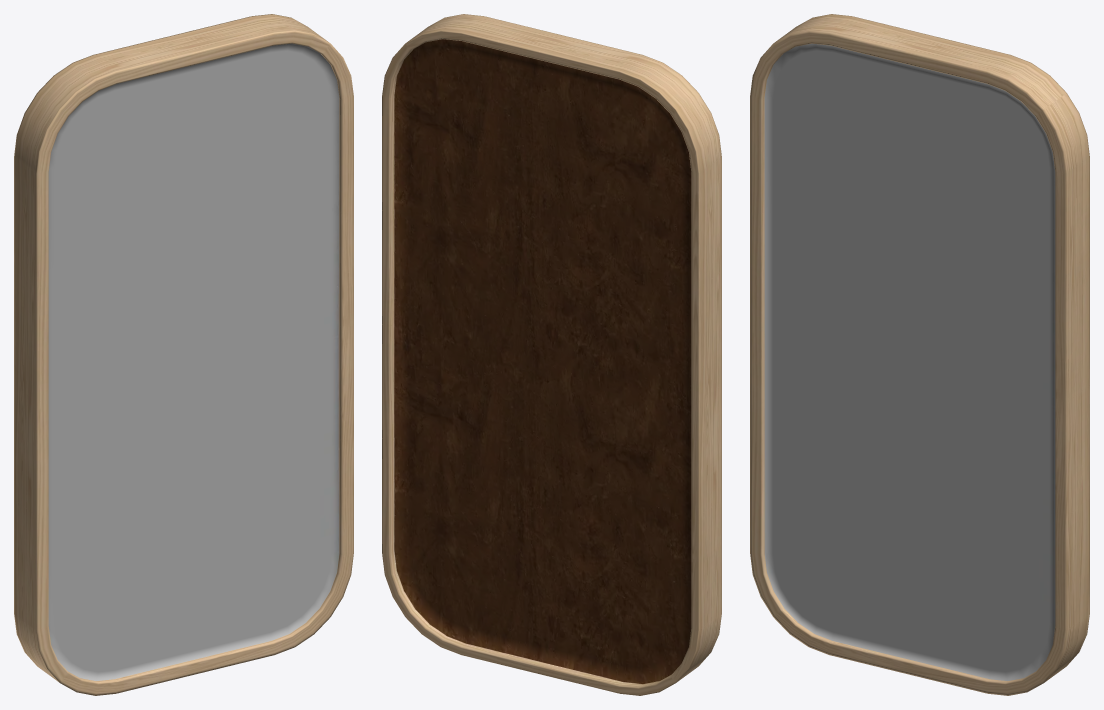
Rendered from Mirror.glb.
3 views of the same model, side by side, from view 1: azimuth 30°, elevation 25°; view 2: azimuth 150°, elevation 25°; view 3: azimuth 330°, elevation 25° (orthographic).
Visible parts, largest first — view 1: SM_Mirror_Material.001_0; view 2: SM_Mirror_Material.001_0; view 3: SM_Mirror_Material.001_0.
Boxes of the visible parts, x1,y1,x2,y2 form: SM_Mirror_Material.001_0: (14, 14, 353, 695); SM_Mirror_Material.001_0: (382, 14, 721, 695); SM_Mirror_Material.001_0: (750, 14, 1089, 695).
Size of the model in its own units: 0.8 by 1.5 by 0.1.
1 material, 1 textured.
